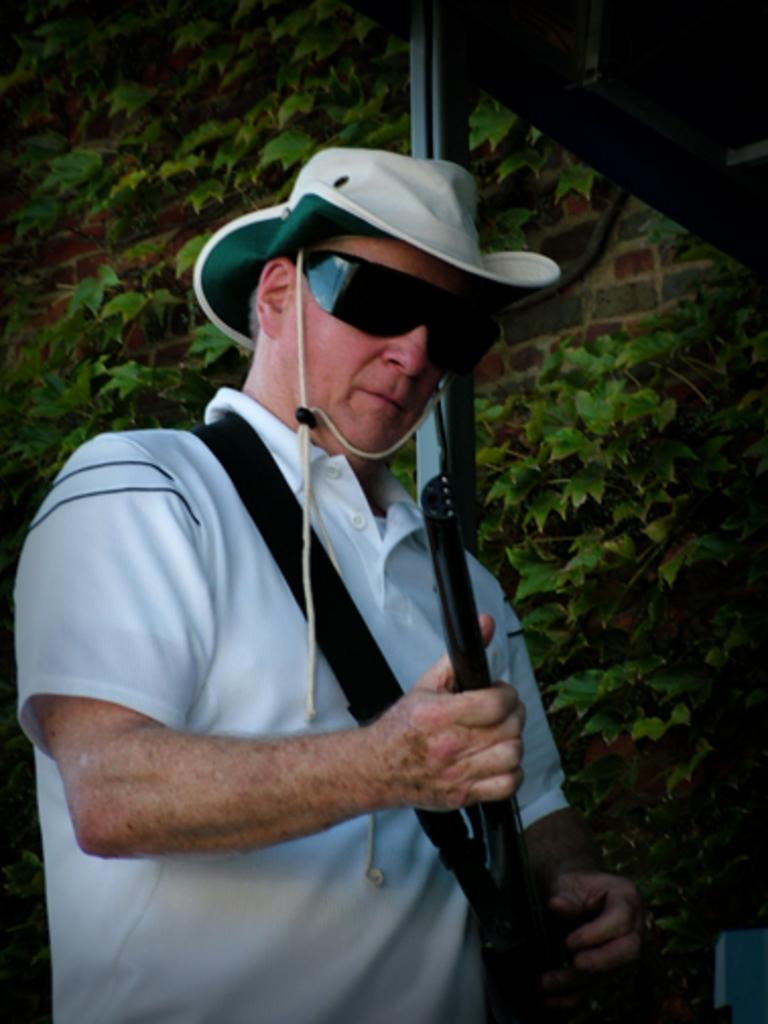Shotgun: (417, 473, 579, 1022)
